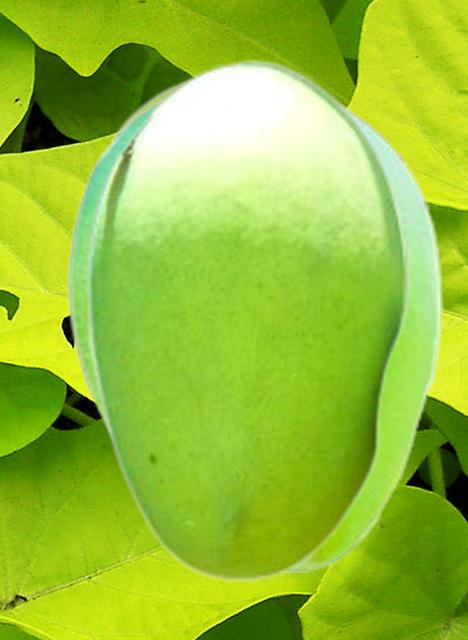green_mango: (65, 89, 442, 571), (85, 58, 408, 580)
